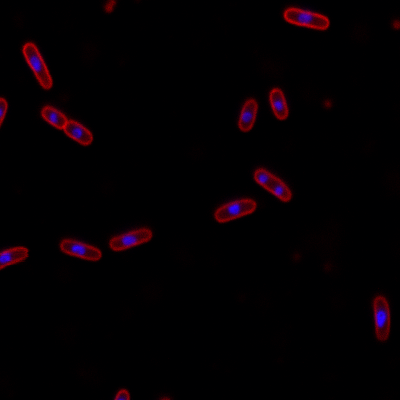CAM: (40, 104, 93, 147), (22, 43, 54, 91), (252, 166, 292, 203), (282, 4, 332, 32), (57, 236, 104, 263), (105, 225, 153, 251), (213, 196, 258, 222), (370, 292, 392, 343), (236, 98, 260, 132), (269, 86, 289, 120)
Vesicle: (320, 98, 334, 111)
